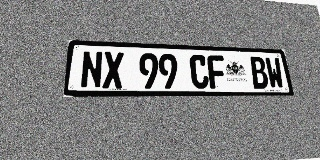9: (139, 53, 159, 88), (159, 53, 179, 88)
B: (249, 57, 270, 89)
C: (189, 54, 210, 89)
F: (207, 55, 227, 89)
N: (80, 51, 103, 88)
W: (264, 57, 285, 89)
X: (102, 51, 124, 88)
